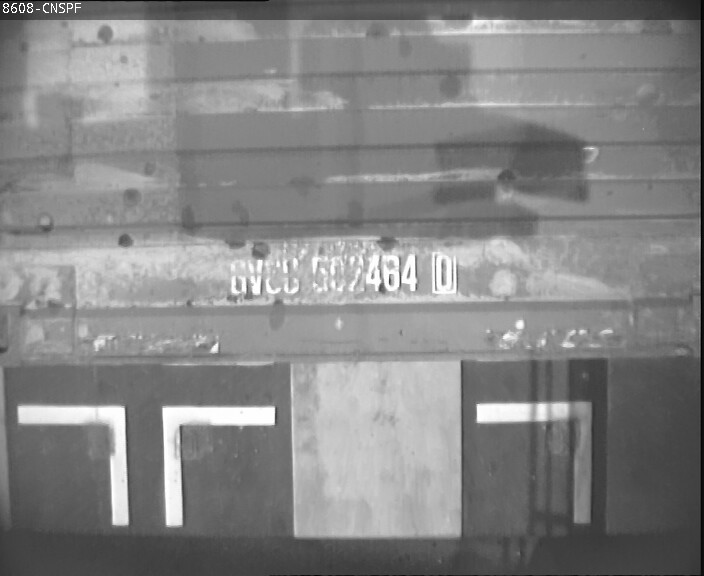groundmarker_1: (17, 402, 276, 528)
